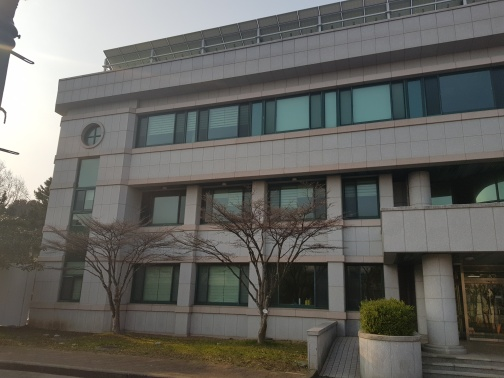Information Telecommunication Center: (59, 31, 504, 337)
